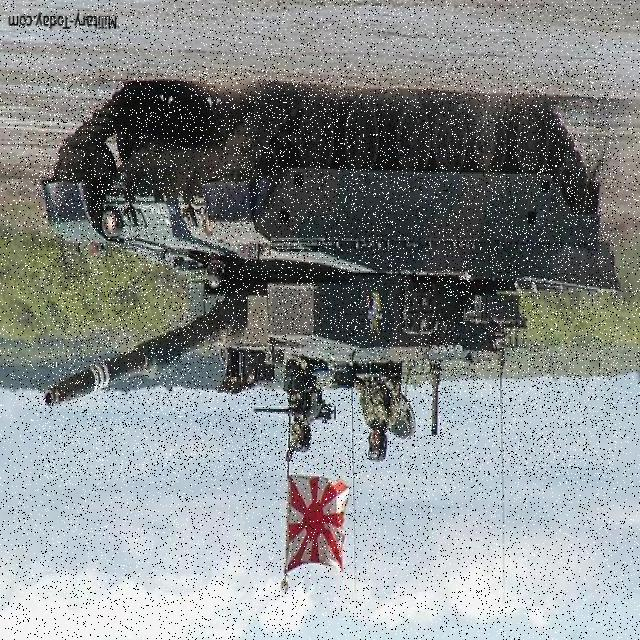MIL_MBT: (38, 66, 617, 477)
